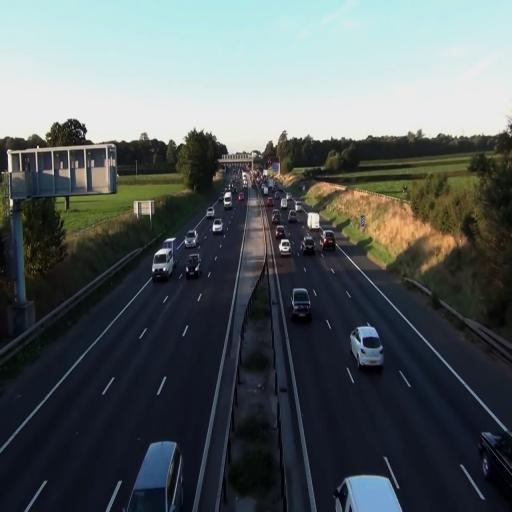vehicle: (125, 441, 183, 512), (332, 457, 404, 512), (350, 324, 384, 368), (152, 246, 174, 282), (290, 287, 312, 322), (186, 253, 202, 278), (320, 229, 336, 252), (300, 235, 314, 256), (278, 238, 292, 256), (185, 230, 197, 248), (212, 220, 223, 234)
